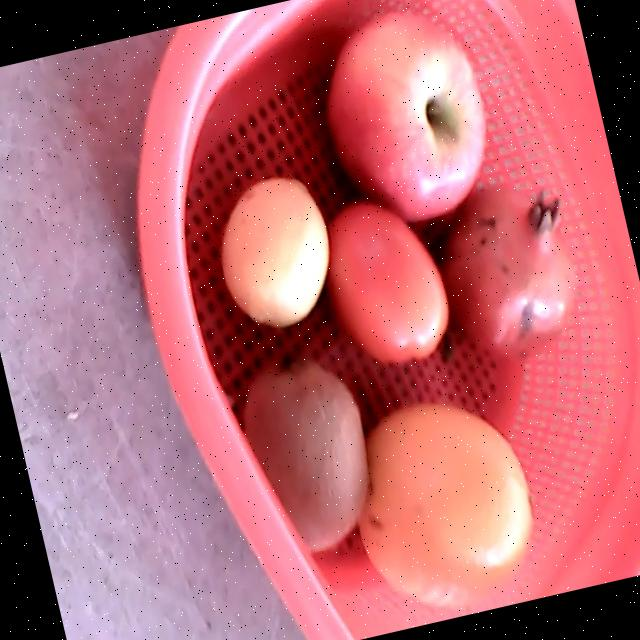apple: (325, 7, 485, 220)
kiwi: (244, 356, 367, 548)
lemon: (219, 177, 328, 326)
orange: (358, 404, 532, 610)
pomegranate: (439, 181, 578, 365)
tomato: (324, 200, 445, 363)
